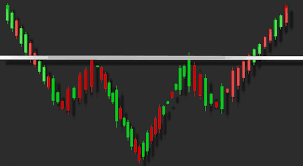Inverse H&S Pattern: (28, 65, 241, 161)
